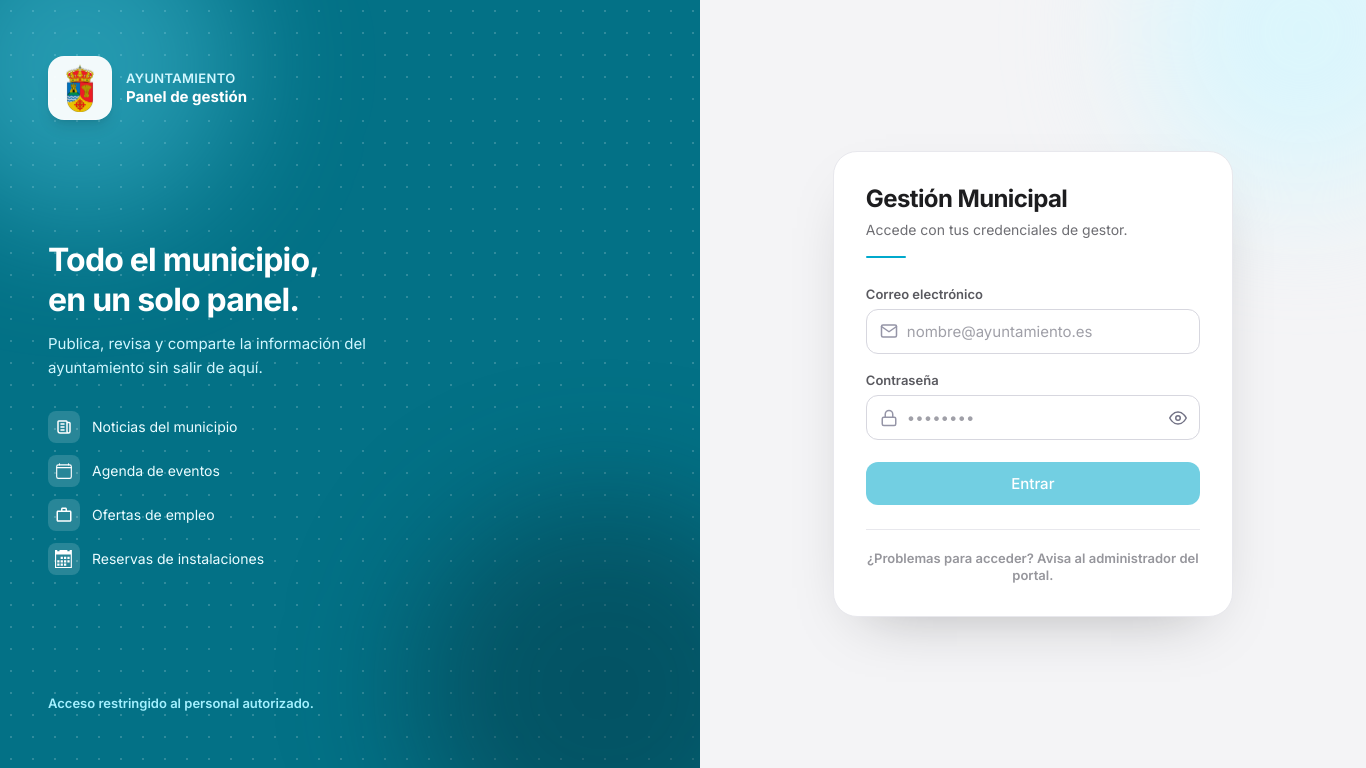
App - puerta de sesion › vuelve al login al cerrar sesion
This screenshot has width=1366, height=768.
Type "plopez@aries.es" into the field labelled "Correo electrónico" at (1033, 331), box [866,309,1200,354]
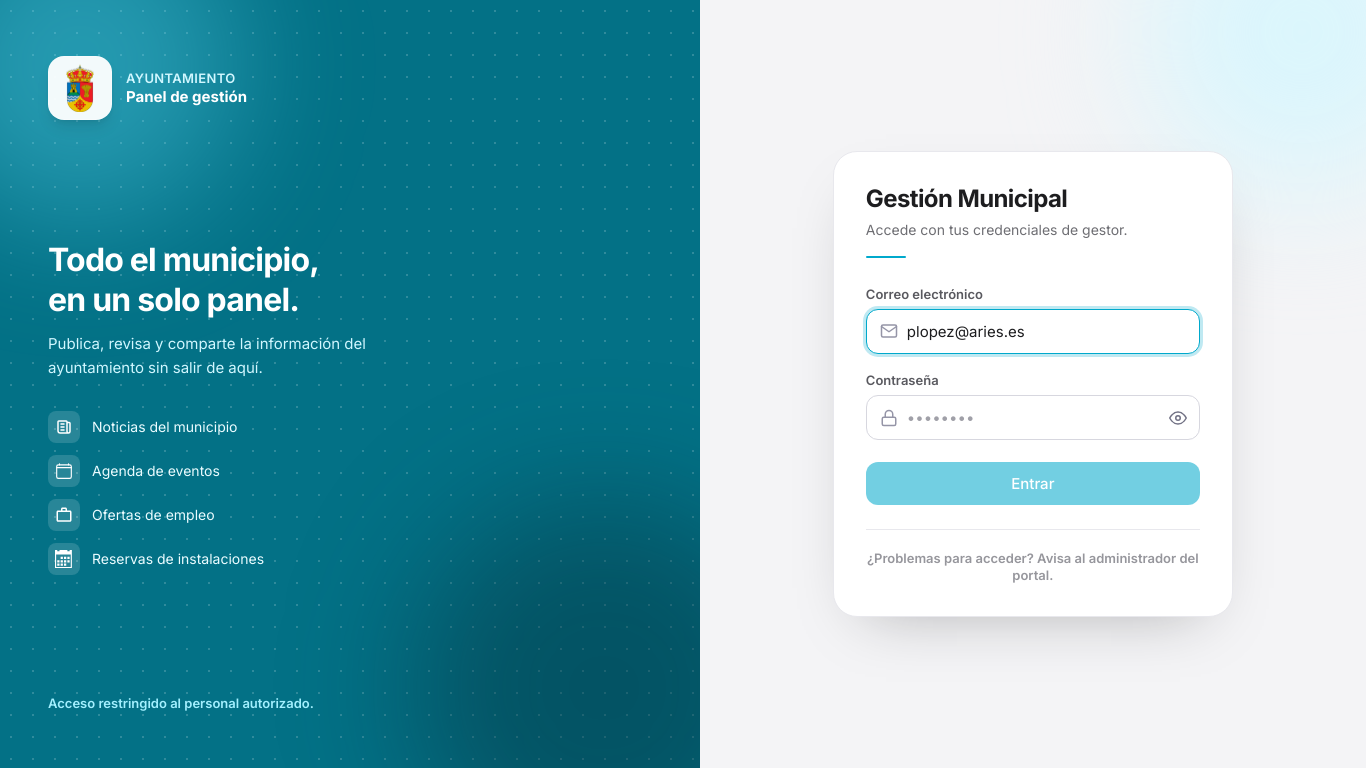
Type "secreto" into the password field labelled "Contraseña" at (1033, 418), box [866,395,1200,440]
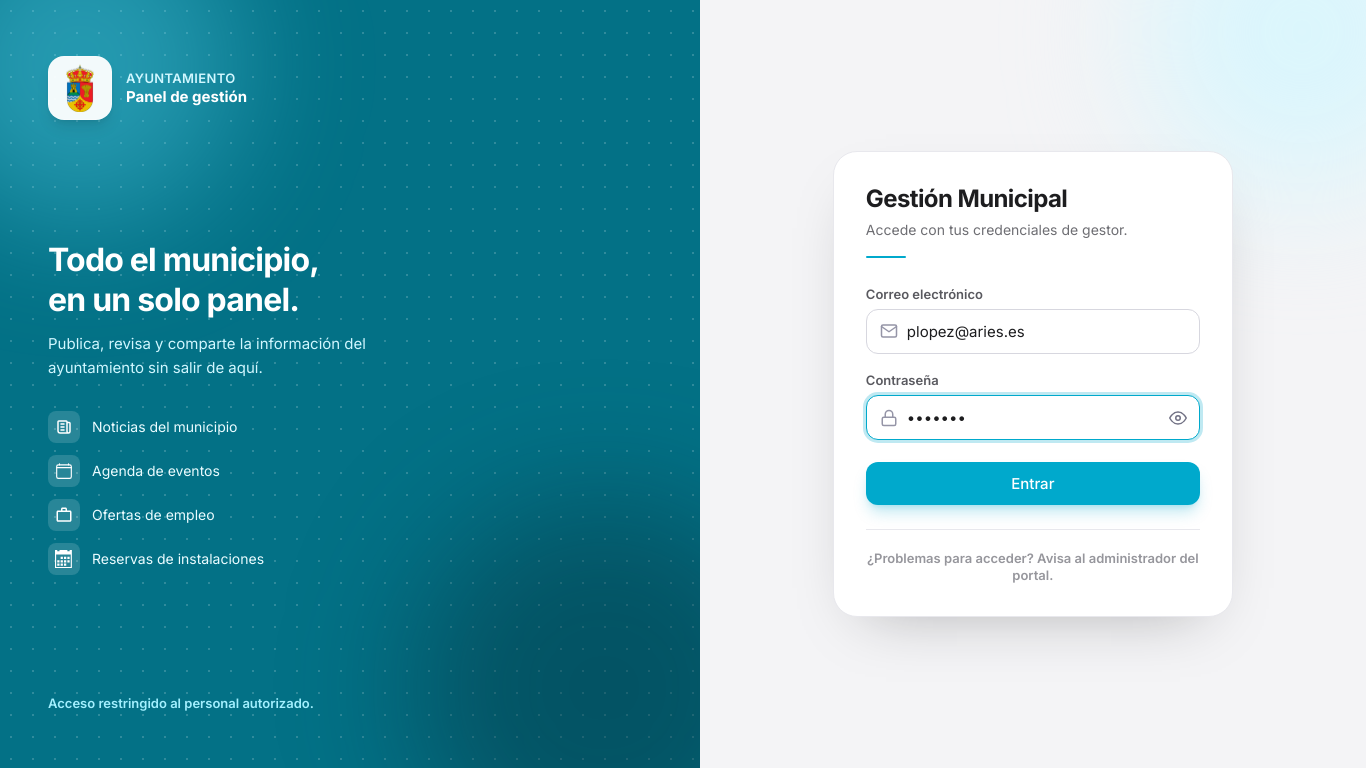
Click the button "Entrar" at (1033, 484), box [866,462,1200,505]
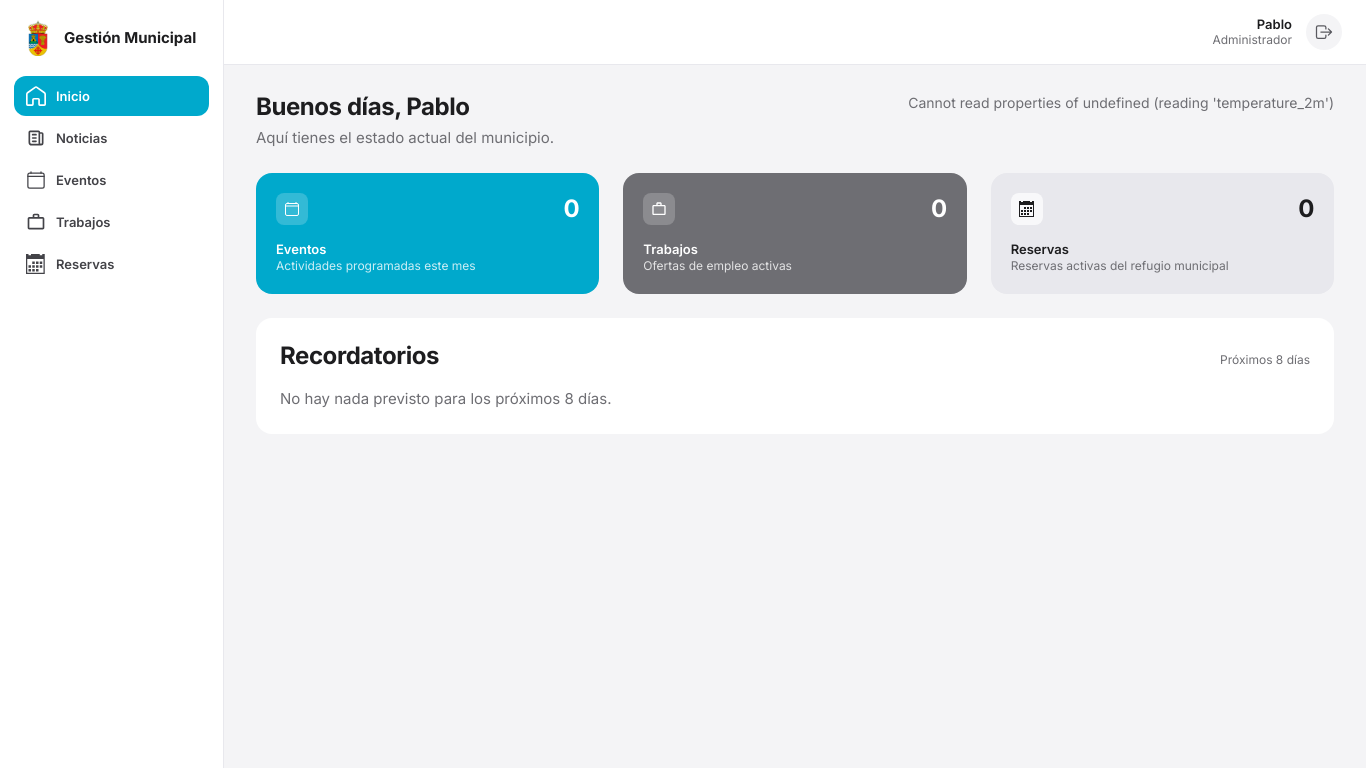
expect the text "Pablo" is shown: met, box [1257,16,1292,32]
Click the button named "Cerrar sesión" at (1324, 32), box [1306,14,1342,50]
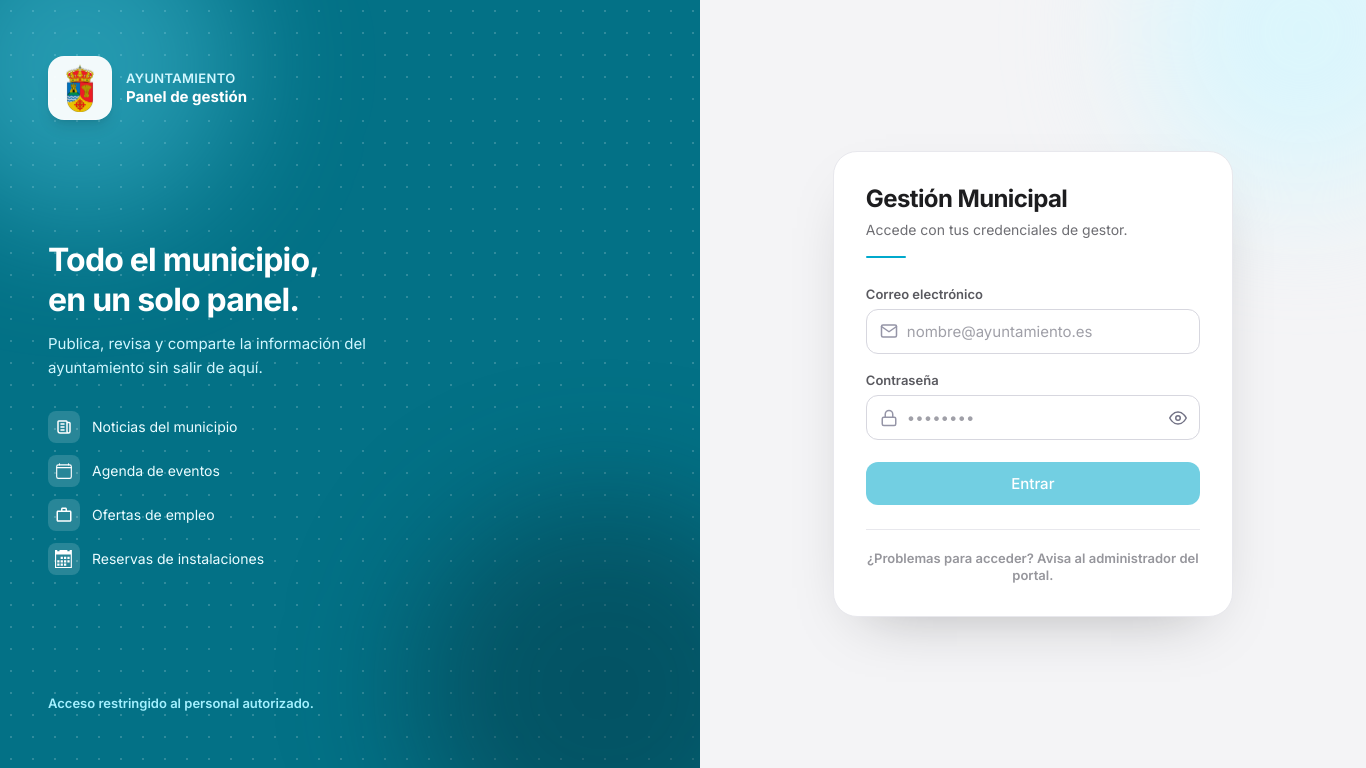
expect the password field labelled "Contraseña" is shown: met, box [866,395,1200,440]
